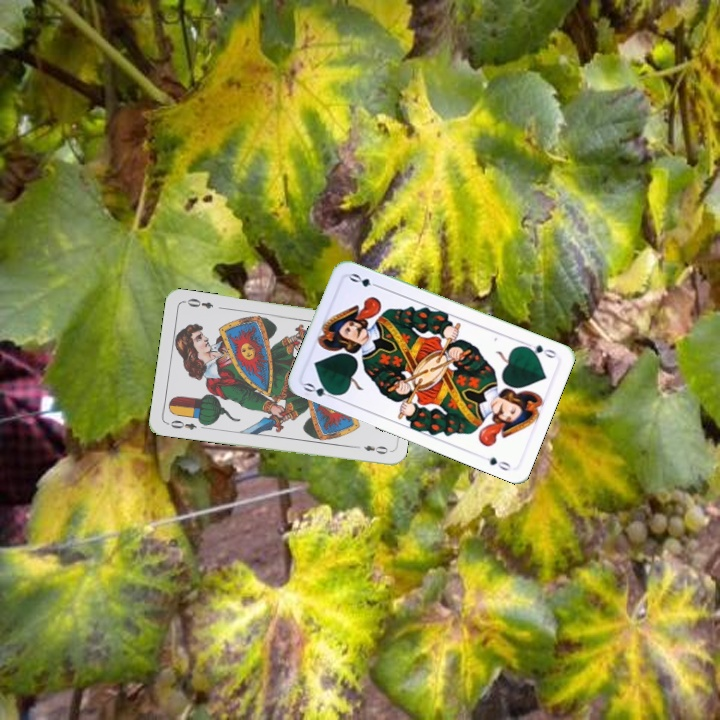EO: (163, 416, 199, 432)
GO: (300, 379, 341, 402), (519, 338, 559, 361)
